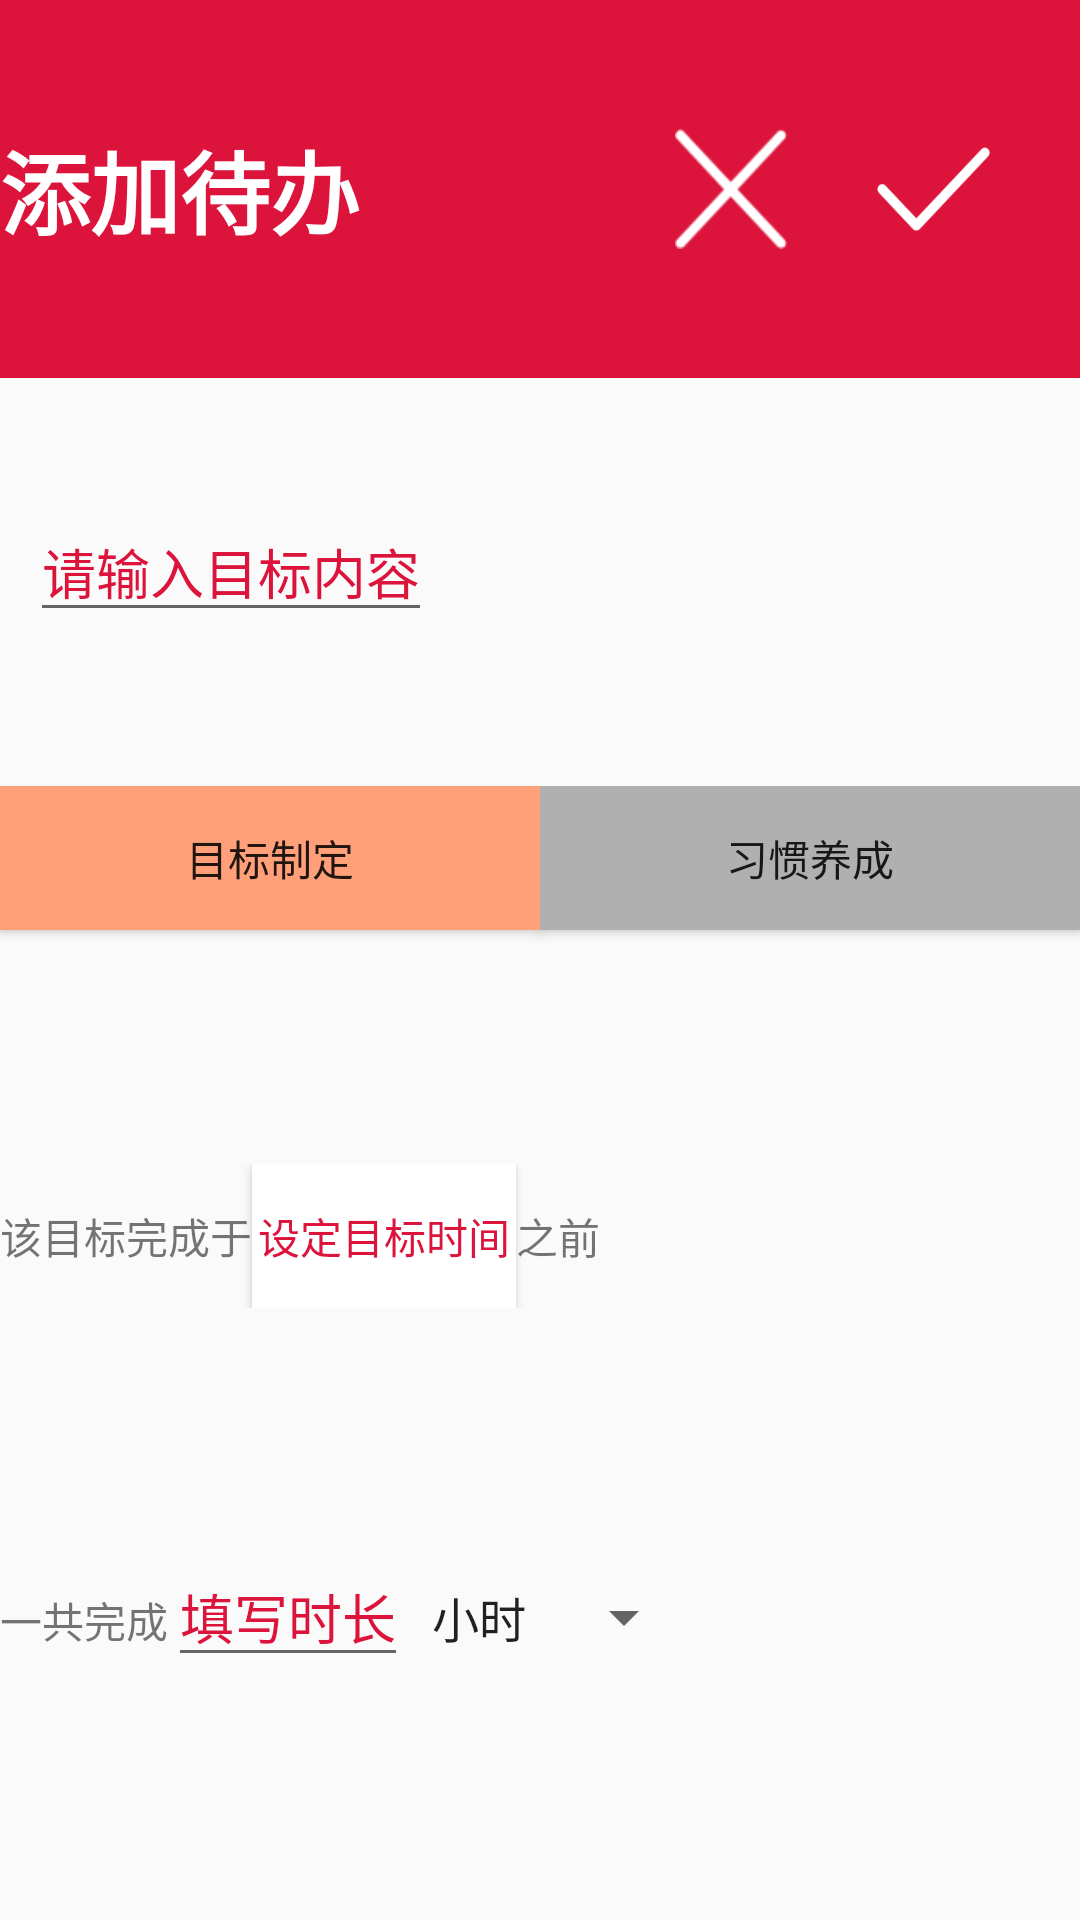

Icon click points for this 1080px x 1920px phone screenshot, format (x=x, y=y):
right: (x=933, y=189)
wrong: (x=731, y=189)
